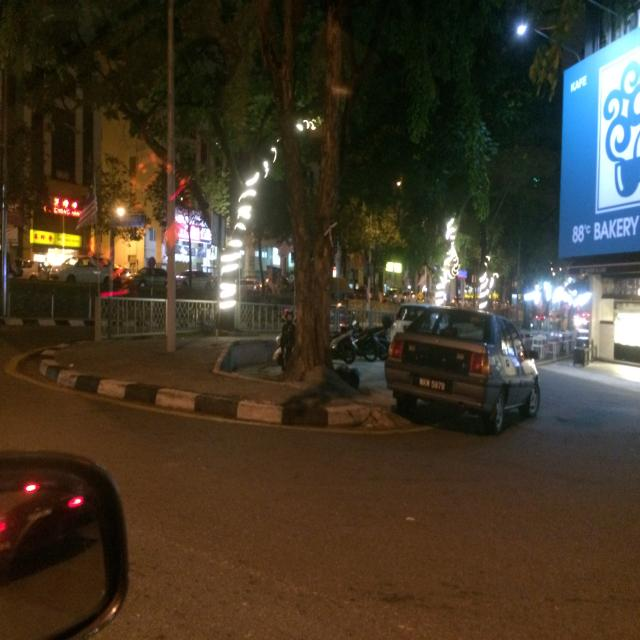Car: (352, 272, 580, 450), (0, 463, 175, 621), (43, 263, 197, 331)
